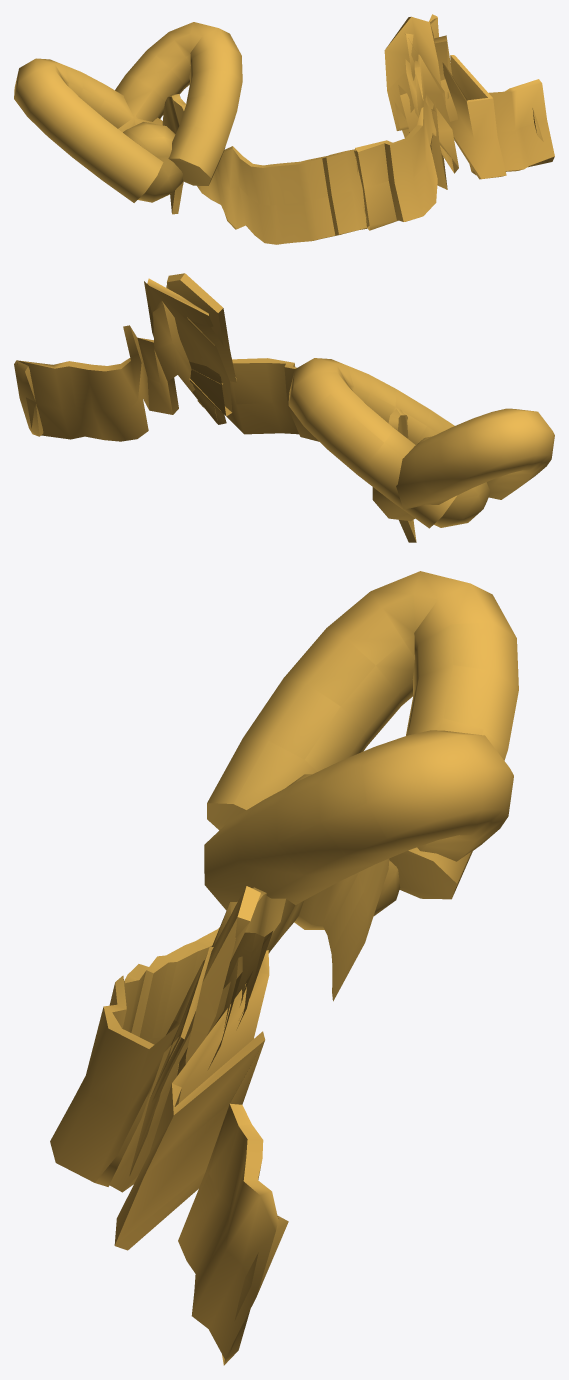
File: frost_gift_ribbon_b.glb
3 views of the same model, one above another, from view 1: azimuth 30°, elevation 25°; view 2: azimuth 150°, elevation 25°; view 3: azimuth 270°, elevation 25° (orthographic). The views are drawn at different scales.
Visible parts, largest first — view 1: frost_gift_ribbon_b; view 2: frost_gift_ribbon_b; view 3: frost_gift_ribbon_b.
Boxes of the visible parts, x1=… form: frost_gift_ribbon_b: x1=14, y1=14, x2=554, y2=244; frost_gift_ribbon_b: x1=14, y1=273, x2=554, y2=542; frost_gift_ribbon_b: x1=50, y1=571, x2=518, y2=1365.
Size of the model in its own units: 6.17 by 2.12 by 2.58.
